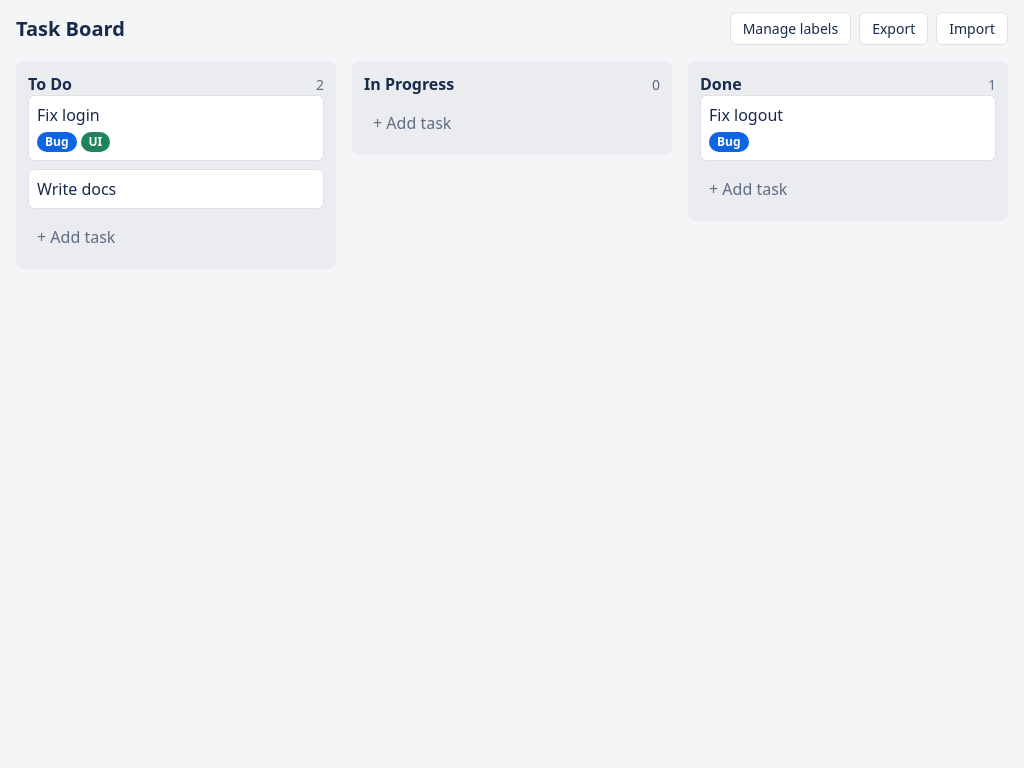
Test: Manage labels screen › lists every Label on the Board, used or unused, with how many Tasks carry it
This screenshot has width=1024, height=768.
Click the button "Manage labels": (790,28) [730,12,851,45]
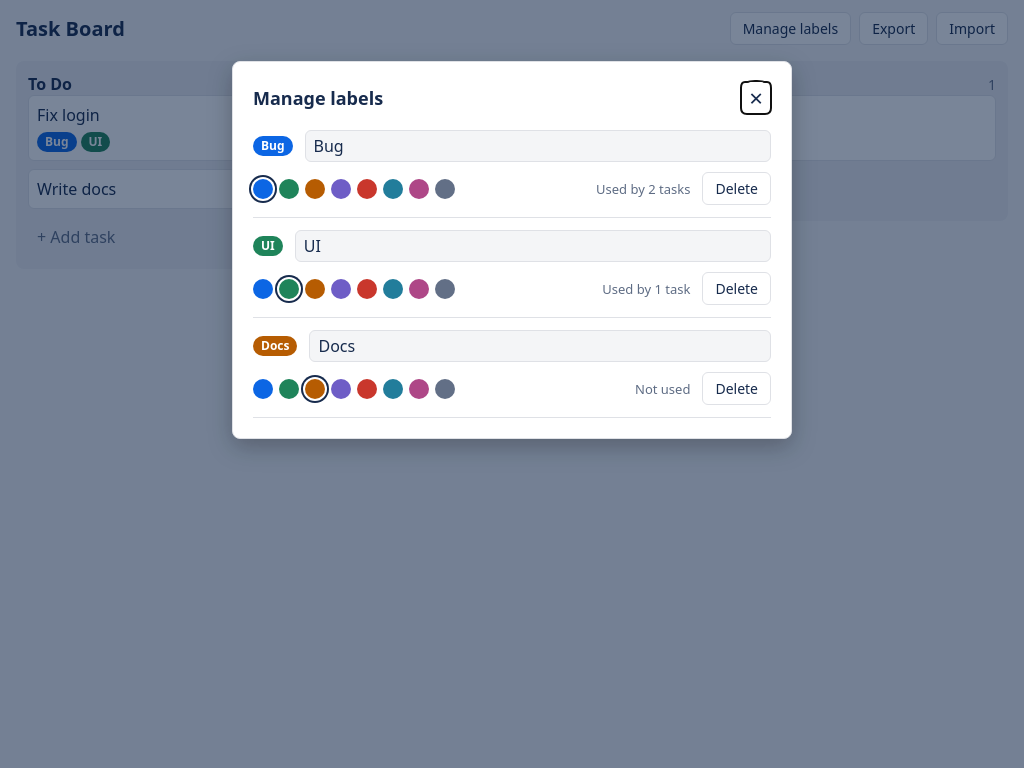
Check: the list item "Bug" shows "Used by 2 tasks", box [596,180,690,198]
Check: the list item "UI" reads "UI Used by 1 task Delete", box [602,280,690,298]
Check: the list item "Docs" shows "Not used", box [635,380,690,398]
